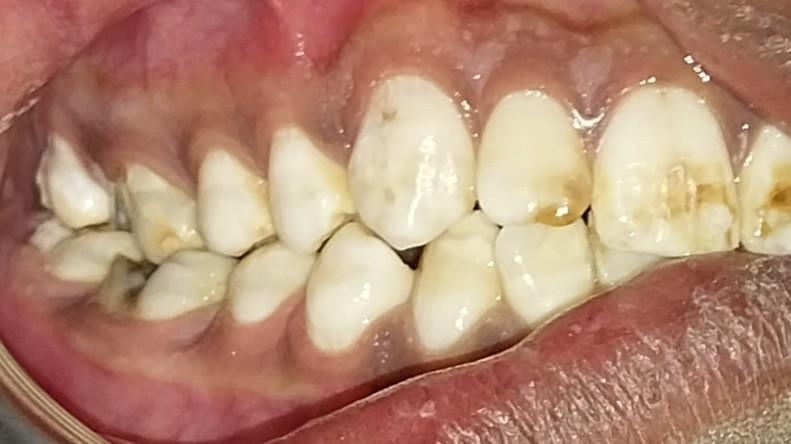D: (109, 161, 204, 265), (102, 245, 229, 322)
